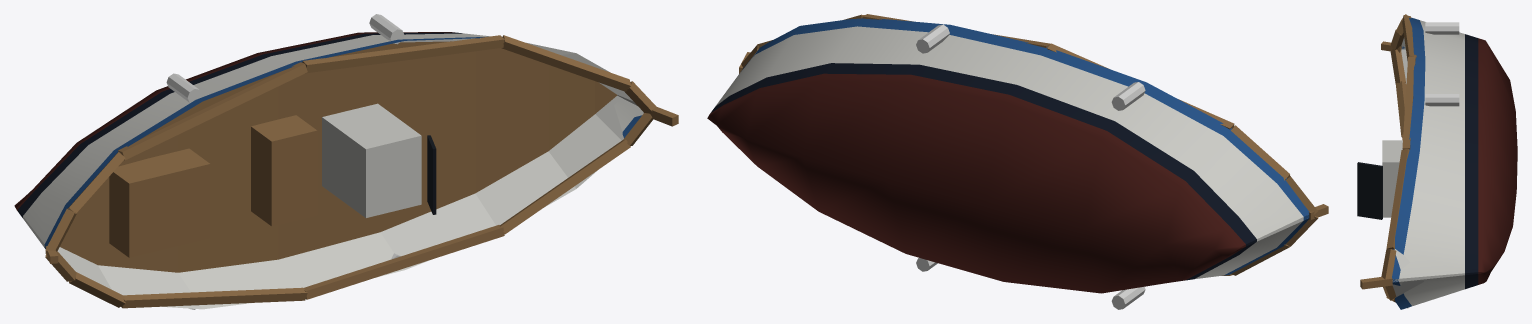
The model's file is boat-small.glb.
3 renders of one model, left to right at view 1: azimuth 30°, elevation 25°; view 2: azimuth 150°, elevation 25°; view 3: azimuth 270°, elevation 25°, orthographic. The views are drawn at different scales.
Visible parts, largest first — view 1: boat-small; view 2: boat-small; view 3: boat-small.
Boxes of the visible parts, x1,y1,x2,y2 form: boat-small: (14, 14, 678, 309); boat-small: (707, 14, 1328, 309); boat-small: (1357, 14, 1517, 309).
Size of the model in its own units: 6.07 by 2.27 by 1.7.
